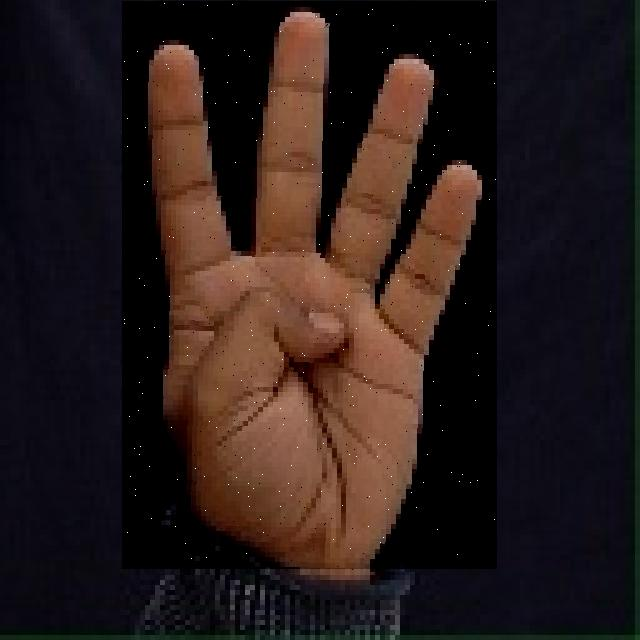Thanks: (122, 1, 497, 572)
